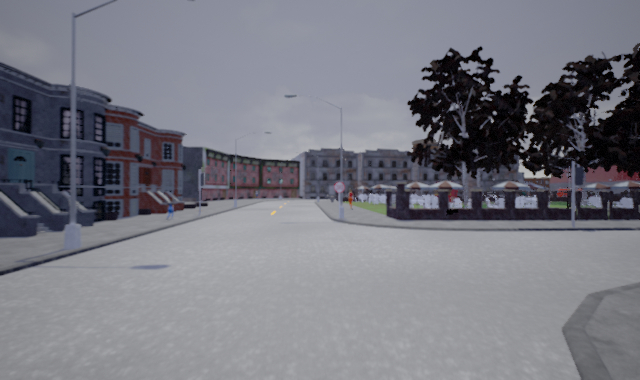pedestrian: (346, 186, 356, 211), (166, 200, 174, 221)
traffic_sign: (333, 181, 345, 194)
